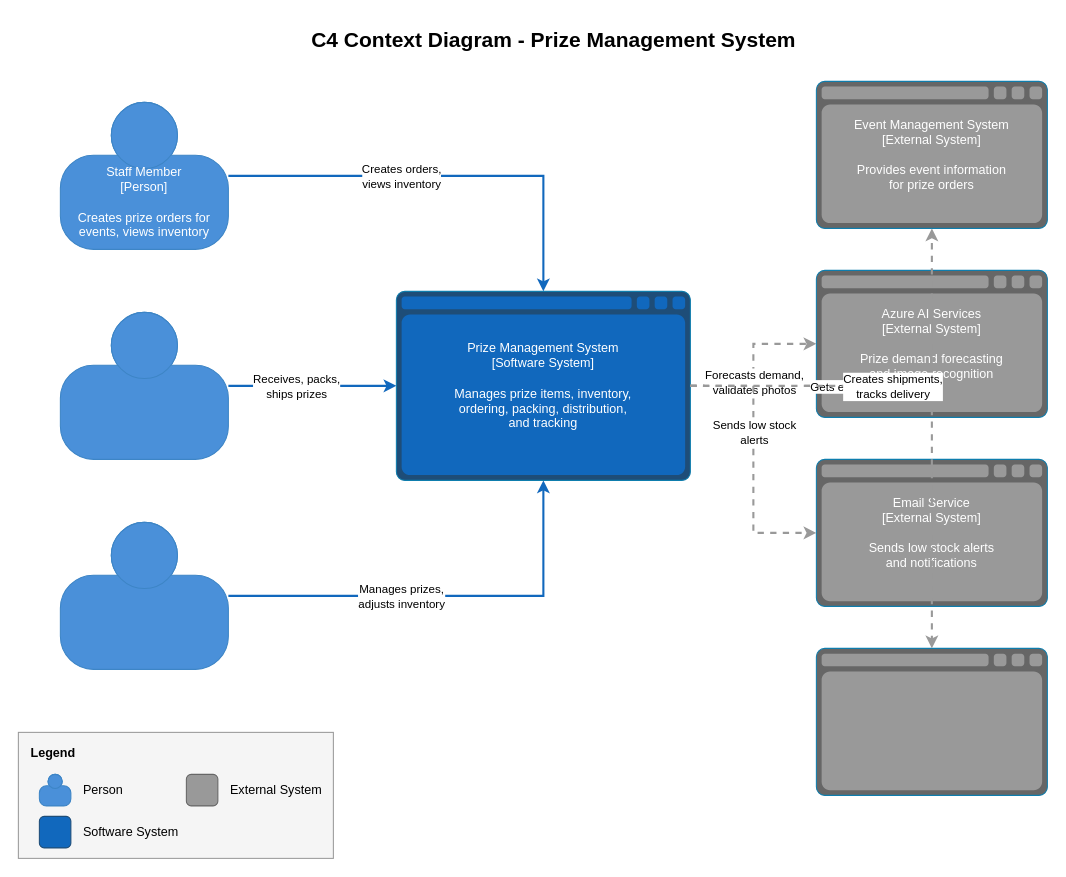
This 1066x877 diagram has some shape labels left out. The shapes that lost their labels are listed below. From the top down, each one's centre as x and y in pixels, then its label:
At (143,385): "Warehouse Staff [Person] Manages inventory, packs and ships prizes".
At (143,595): "Manager [Person] Manages prize items, adjusts inventory, views reports".
At (931,721): "Shipping Provider [External System] Tracking and shipment management".
